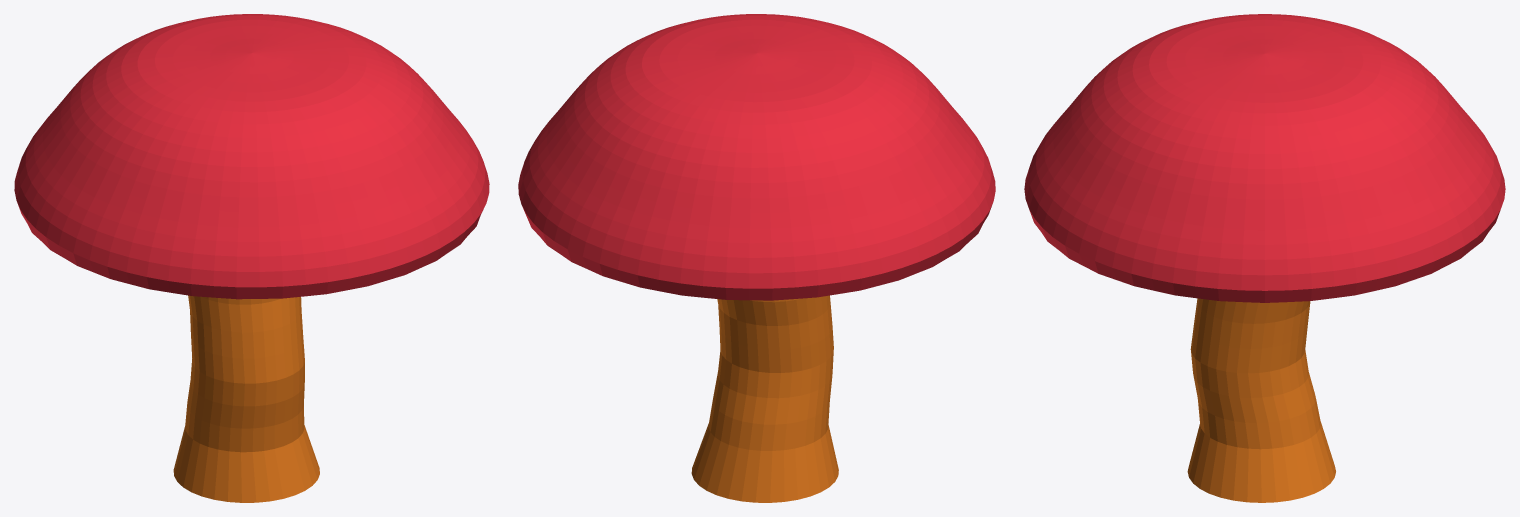
File: Cogumelo2.fbx
3 renders of one model, left to right at view 1: azimuth 30°, elevation 25°; view 2: azimuth 150°, elevation 25°; view 3: azimuth 270°, elevation 25°, orthographic.
Parts seen in each view (by area): view 1: Cogumelo2; view 2: Cogumelo2; view 3: Cogumelo2.
Part boxes in pixels (bbox=[...]): Cogumelo2: bbox=[14, 14, 489, 502]; Cogumelo2: bbox=[518, 14, 995, 502]; Cogumelo2: bbox=[1024, 14, 1505, 502].
Bounding box in the file's own units: 1244 × 1202 × 1244.
